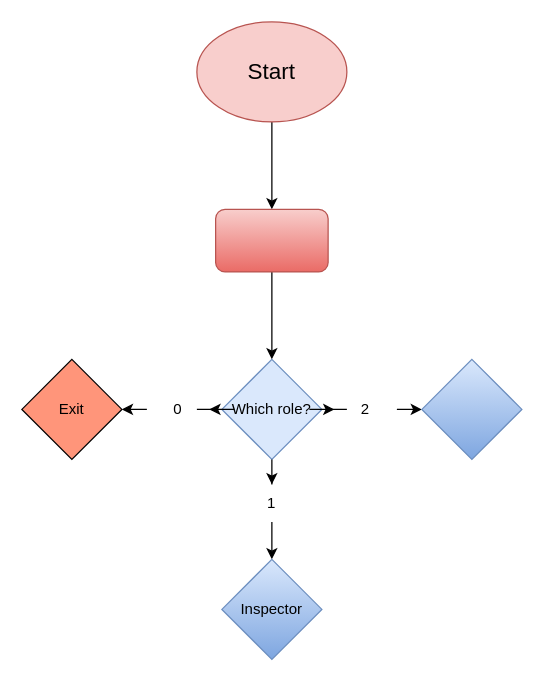
Image size: 544x681. Some labels were removed from this diagram. The shapes that lost their labels are listed below. From the top down, each one's box as (x1, y1, x2, y2) in pixels, then its label:
(214, 208, 328, 272): Print bus
(421, 358, 522, 459): Customer
